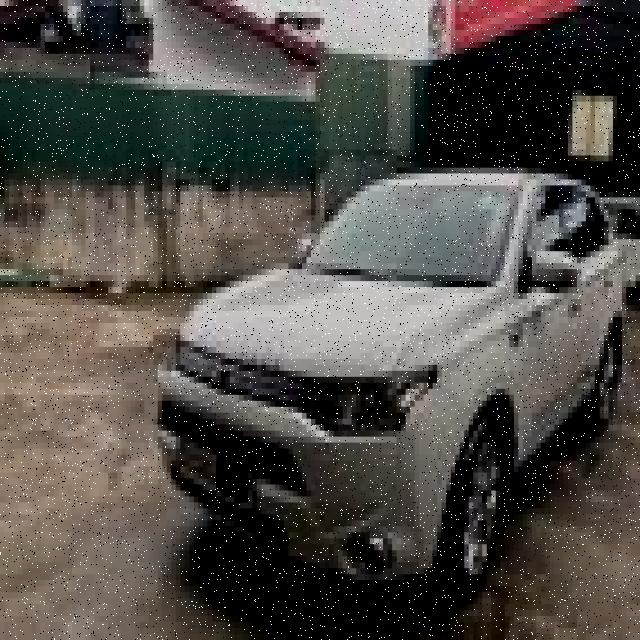car: (184, 168, 629, 607)
